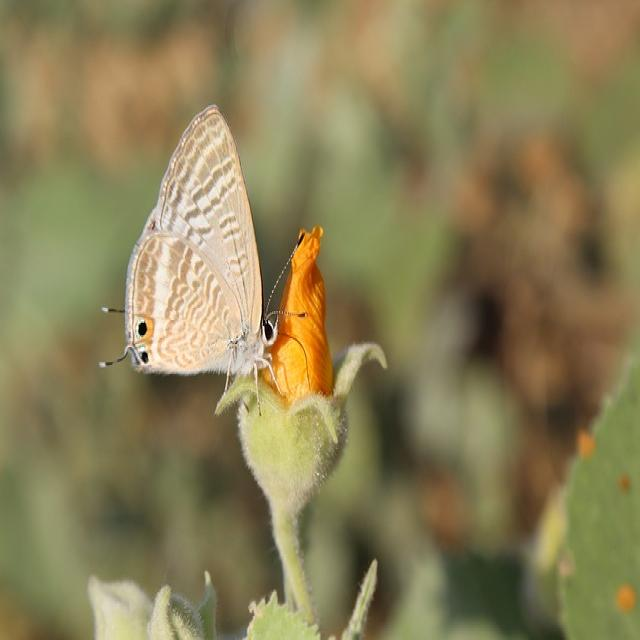butterfly: (120, 104, 316, 379)
